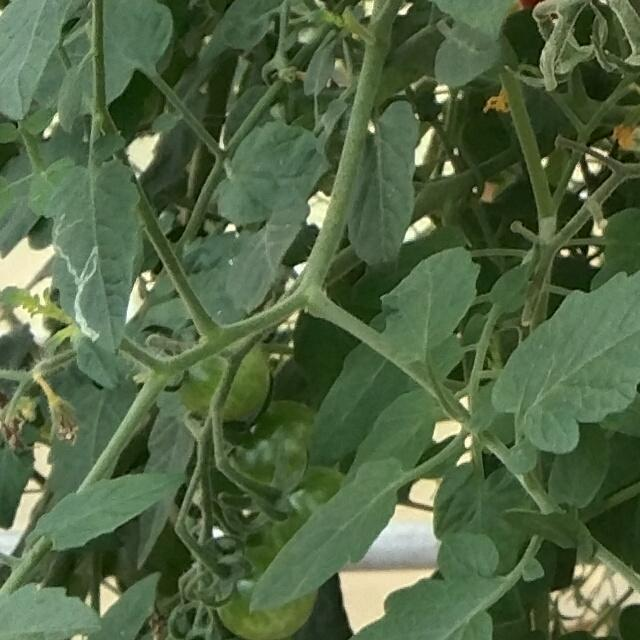Healthy: (491, 266, 640, 454), (247, 455, 407, 615), (347, 100, 423, 279), (215, 120, 335, 226), (377, 245, 485, 362), (38, 470, 191, 552), (222, 194, 307, 316), (0, 0, 77, 123)
Leaf_Miner: (43, 160, 146, 355)
